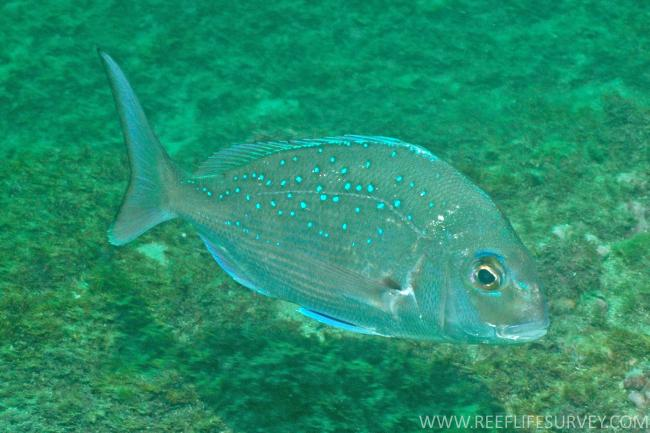fish: (96, 48, 551, 343)
